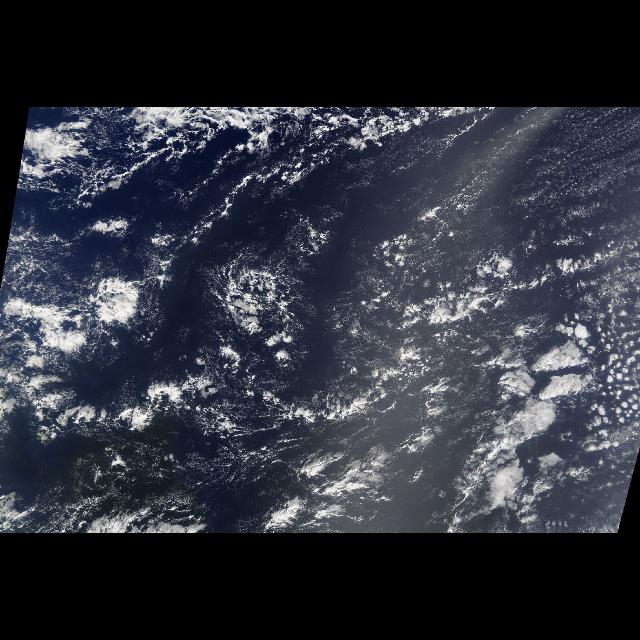Fish: (30, 242, 490, 486)
Flower: (1, 217, 638, 533)
Gravel: (208, 247, 492, 511)
Sugar: (430, 118, 636, 282)
